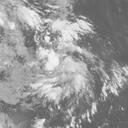cyclone: (35, 45, 90, 95)
